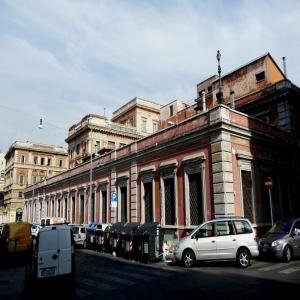Vehicle-registration-plate: (41, 268, 56, 276), (264, 249, 268, 252)
